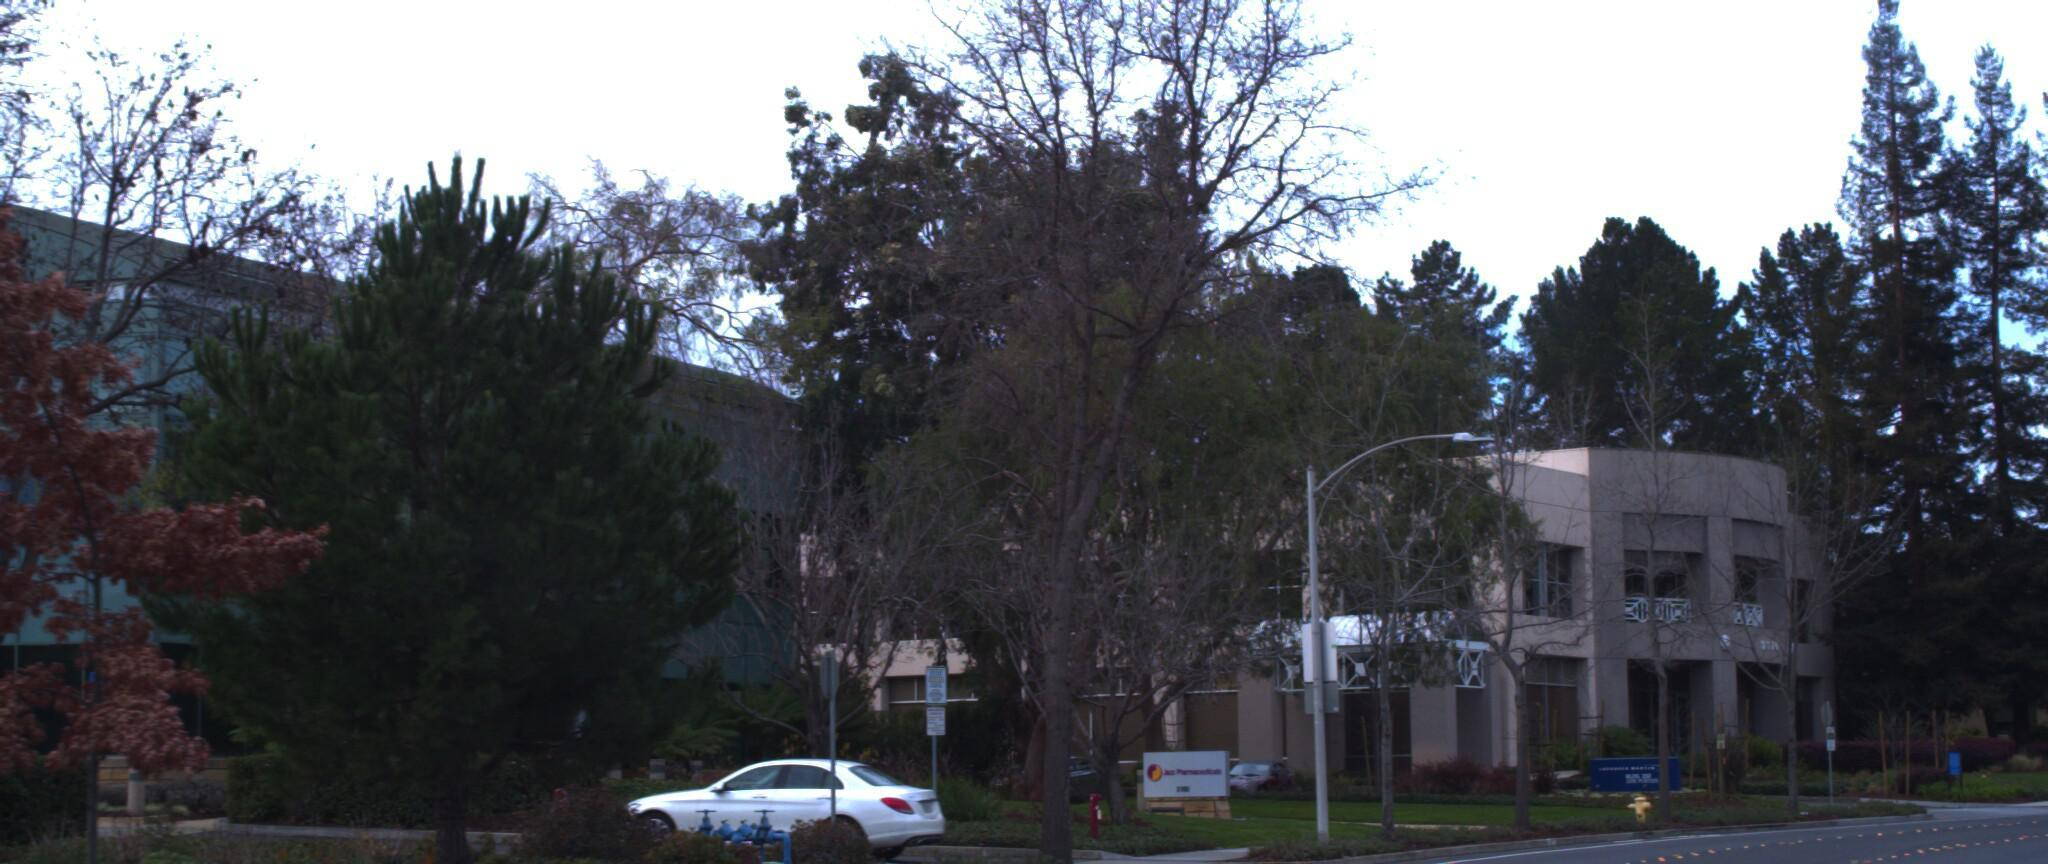car: (613, 749, 955, 864)
